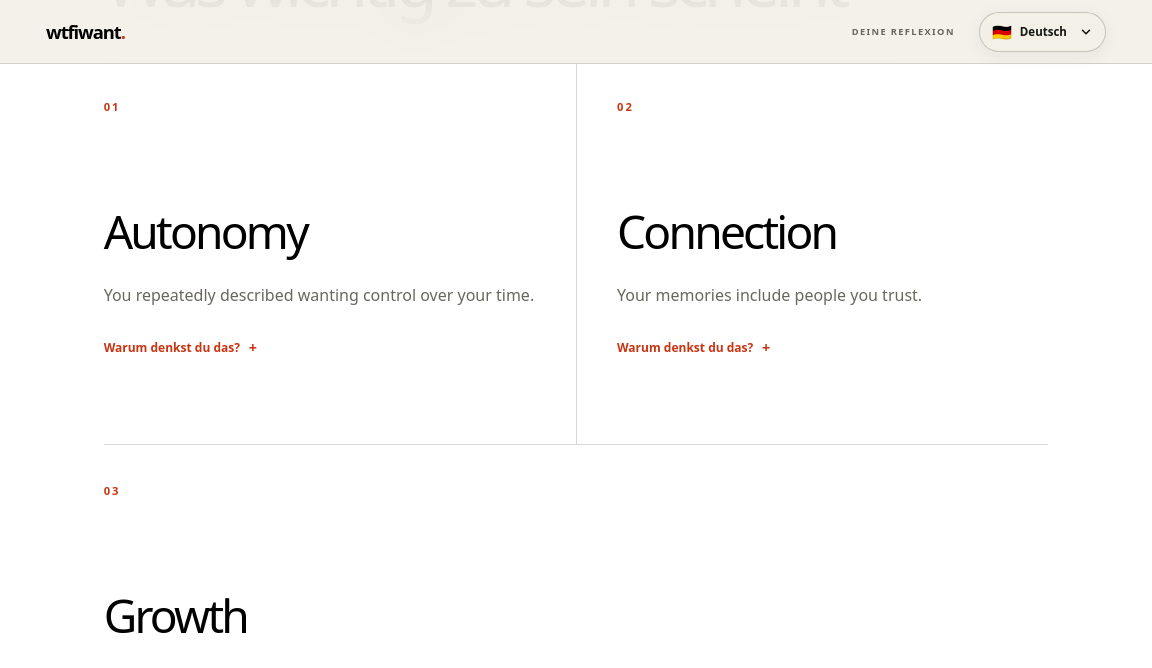
Test case: results experience › shows the results interface in German
(page scrolled)
Click the 1st heading "Warum denkst du das?": {"x": 180, "y": 348} [104,340,257,356]
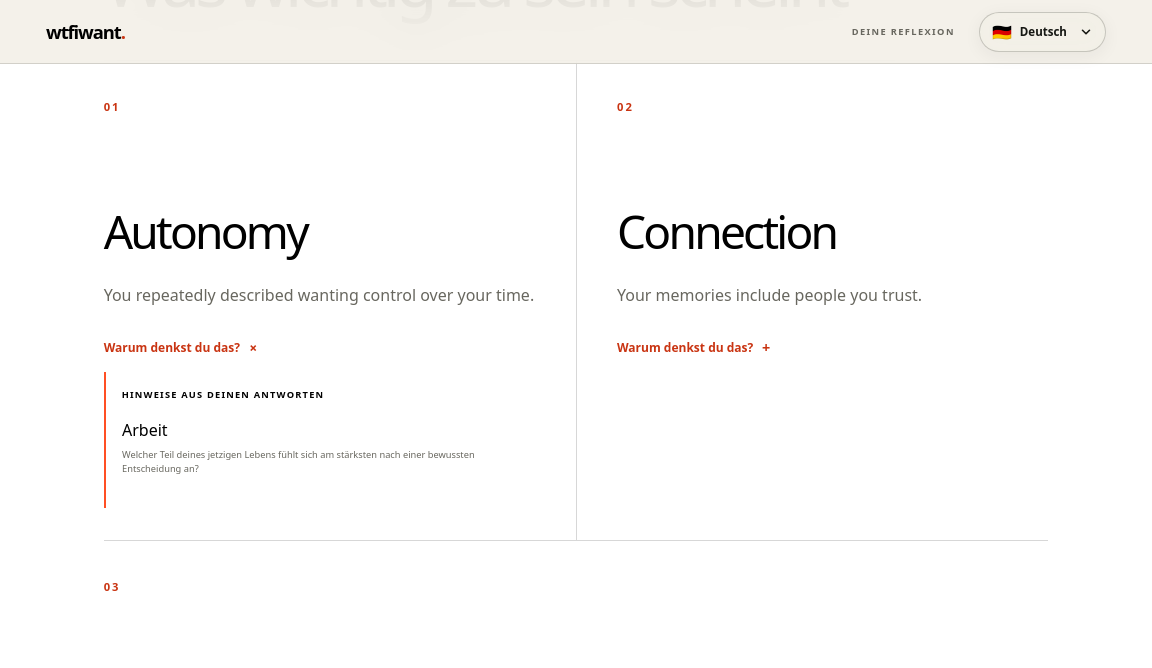
Check: the text "Arbeit" is shown, box [122,419,167,441]
